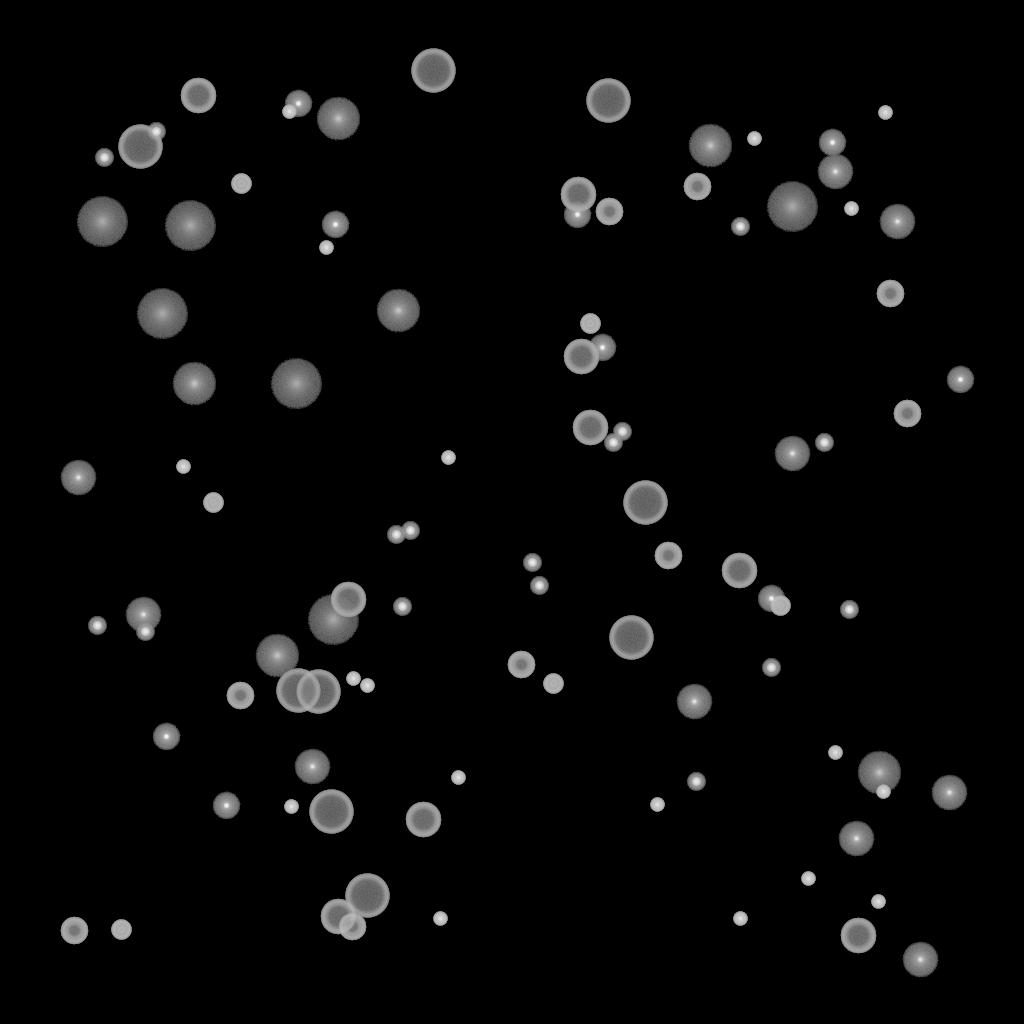depth:-10: (152, 723, 180, 751), (757, 585, 785, 613), (588, 334, 616, 362), (946, 366, 974, 394), (321, 211, 349, 239), (818, 129, 846, 157), (563, 201, 591, 229), (284, 90, 312, 118), (212, 792, 240, 820)
depth:-20: (88, 617, 106, 635), (731, 218, 749, 236), (147, 123, 165, 141), (762, 659, 780, 677), (840, 601, 858, 619), (687, 773, 705, 791), (604, 434, 622, 452), (393, 598, 411, 616), (401, 522, 419, 540), (815, 434, 833, 452), (387, 526, 405, 544), (523, 554, 541, 572), (136, 623, 154, 641), (613, 423, 631, 441), (530, 577, 548, 595), (95, 149, 113, 167)
depth:-30: (433, 912, 447, 926), (828, 746, 842, 760), (747, 132, 761, 146), (844, 202, 858, 216), (284, 800, 298, 814), (346, 672, 360, 686), (319, 241, 333, 255), (650, 798, 664, 812), (801, 872, 815, 886), (871, 895, 885, 909), (441, 451, 455, 465), (876, 785, 890, 799), (360, 679, 374, 693), (878, 106, 892, 120), (451, 771, 465, 785), (176, 460, 190, 474), (282, 105, 296, 119), (733, 912, 747, 926)
depth:-40: (203, 493, 223, 513), (111, 920, 131, 940), (770, 596, 790, 616), (580, 314, 600, 334), (231, 174, 251, 194), (543, 674, 563, 694)
depth:-50: (595, 198, 623, 226), (893, 400, 921, 428), (226, 682, 254, 710), (654, 542, 682, 570), (876, 280, 904, 308), (683, 173, 711, 201), (60, 917, 88, 945), (338, 913, 366, 941), (507, 651, 535, 679)
depth:-60: (572, 410, 608, 446), (560, 177, 596, 213), (330, 582, 366, 618), (180, 78, 216, 114), (840, 918, 876, 954), (405, 802, 441, 838), (721, 553, 757, 589), (563, 339, 599, 375), (320, 899, 356, 935)
depth:-70: (345, 874, 389, 918), (309, 790, 353, 834), (609, 616, 653, 660), (276, 669, 320, 713), (296, 670, 340, 714), (586, 79, 630, 123), (411, 49, 455, 93), (623, 481, 667, 525), (118, 125, 162, 169)
depth:0: (838, 821, 874, 857), (931, 775, 967, 811), (879, 204, 915, 240), (676, 684, 712, 720), (817, 154, 853, 190), (294, 749, 330, 785), (60, 460, 96, 496), (902, 942, 938, 978), (774, 436, 810, 472), (125, 597, 161, 633)
depth:10: (172, 362, 216, 406), (688, 124, 732, 168), (857, 751, 901, 795), (316, 97, 360, 141), (376, 289, 420, 333), (255, 634, 299, 678)
depth:20: (766, 182, 818, 232), (307, 595, 359, 645), (270, 359, 322, 409), (136, 289, 188, 339), (164, 201, 216, 251), (76, 197, 128, 247)
